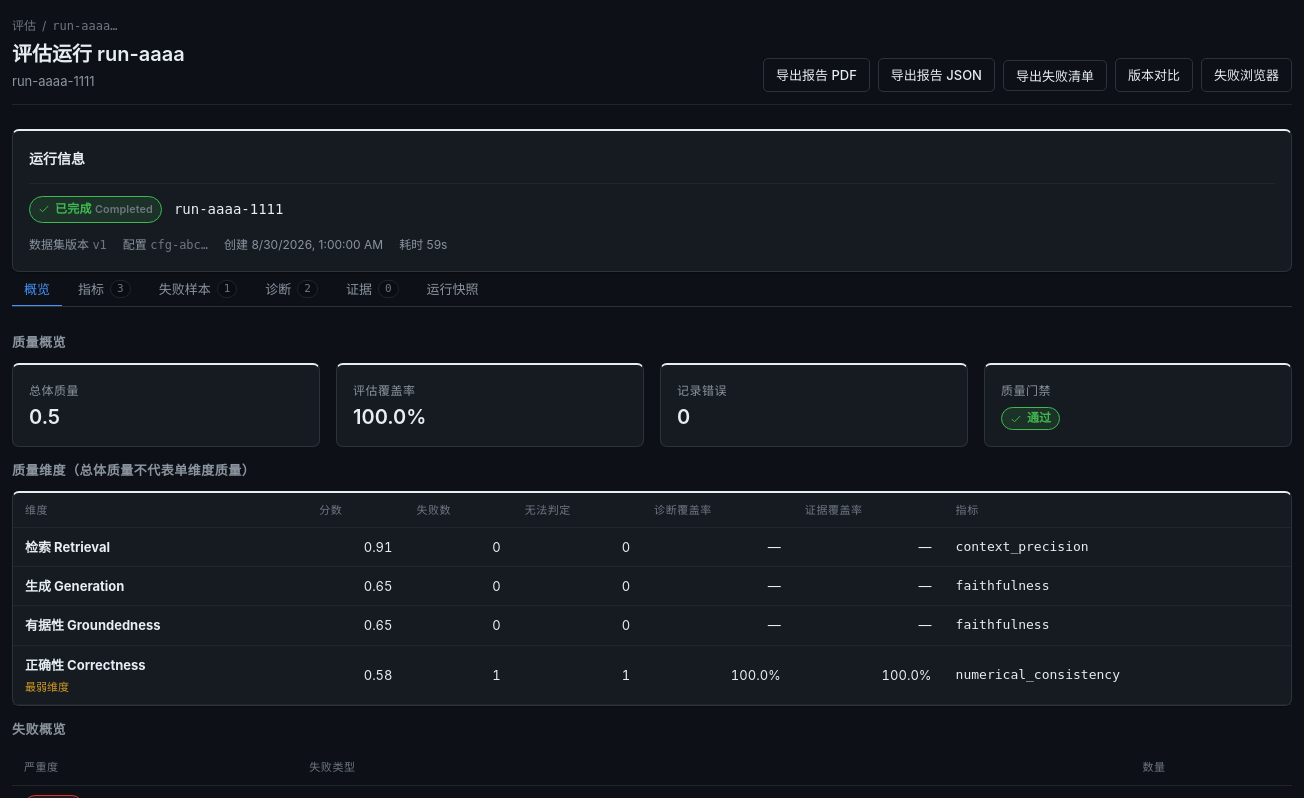
Test case: Evaluation detail › 10. failure sample shows severity / type / metric
Expected: the heading "质量概览" is shown, [12,335,66,351]
What coordinates should you click on to do the following:
click the tab with test id "tab-failures"
I would click on:
 (198, 290)
Its box is [147,272,249,307].
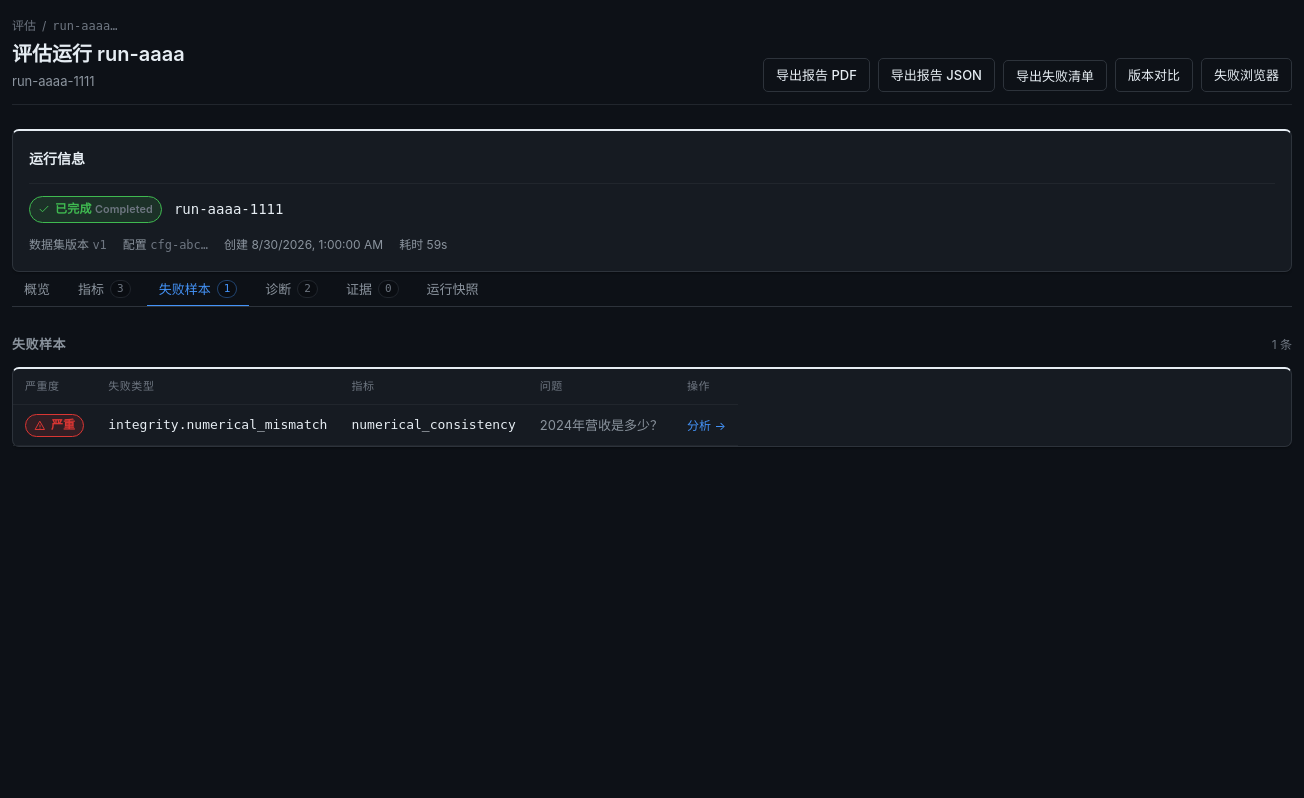
Expected: the row with test id "failure-sample" shows "integrity.numerical_mismatch", [108,417,328,432]
Expected: the row with test id "failure-sample" shows "严重", [51,417,75,432]
Expected: the row with test id "failure-sample" shows "分析 →", [687,418,726,433]
